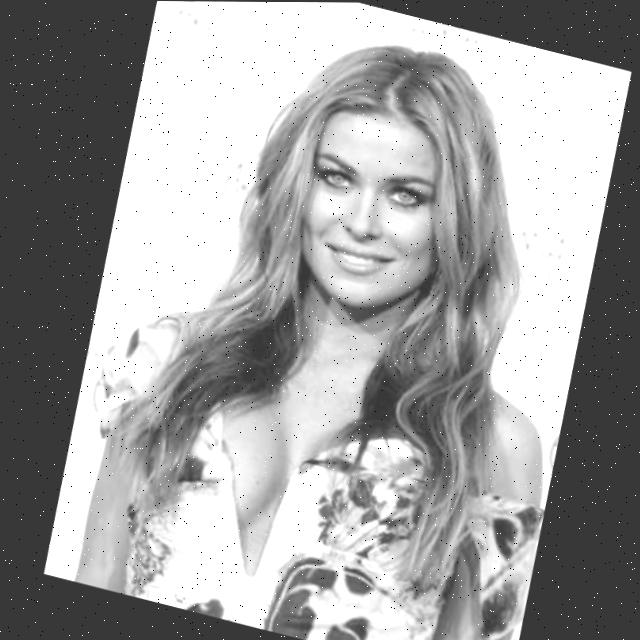face: (278, 78, 476, 340)
